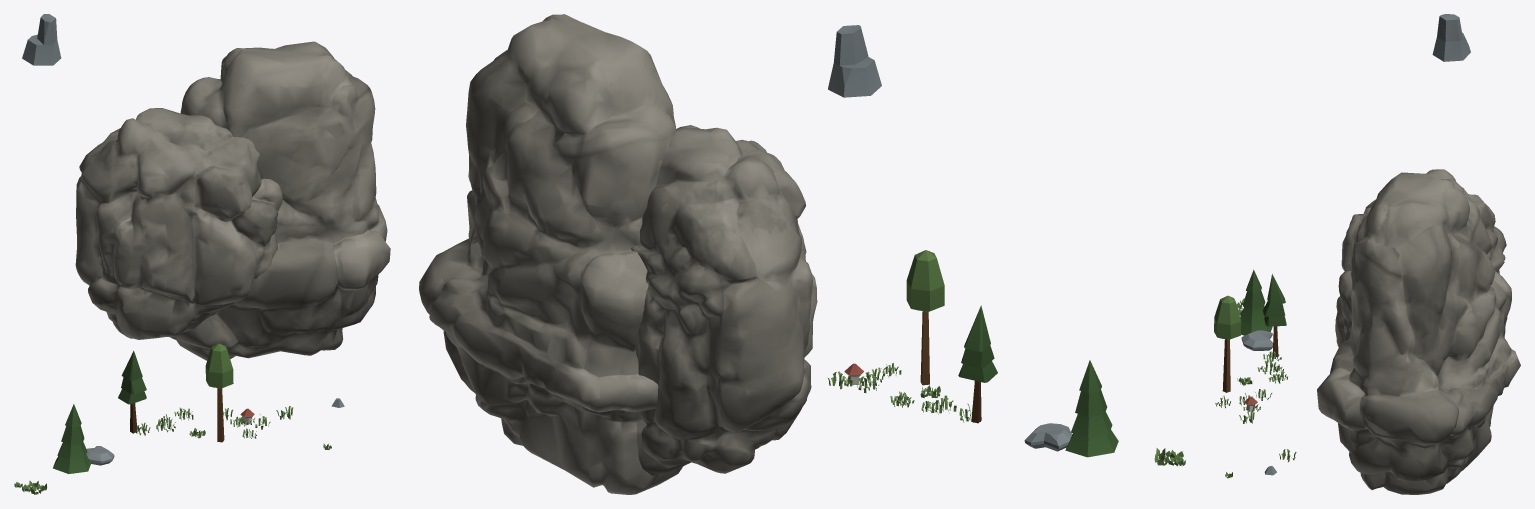
The model's file is cell_x-2_z-3_render.gltf.
3 views of the same model, side by side, from view 1: azimuth 30°, elevation 25°; view 2: azimuth 150°, elevation 25°; view 3: azimuth 270°, elevation 25° (orthographic). The views are drawn at different scales.
Visible parts, largest first — view 1: cell_x-2_z-3; view 2: cell_x-2_z-3; view 3: cell_x-2_z-3.
Boxes of the visible parts, box(x1,y1,x2,y2) form: cell_x-2_z-3: box(14, 14, 390, 494); cell_x-2_z-3: box(419, 14, 1185, 494); cell_x-2_z-3: box(1214, 14, 1520, 494).
Bounding box in the file's own units: 36.15 × 29.51 × 21.56.
Materials: 9 (1 with a texture image).
